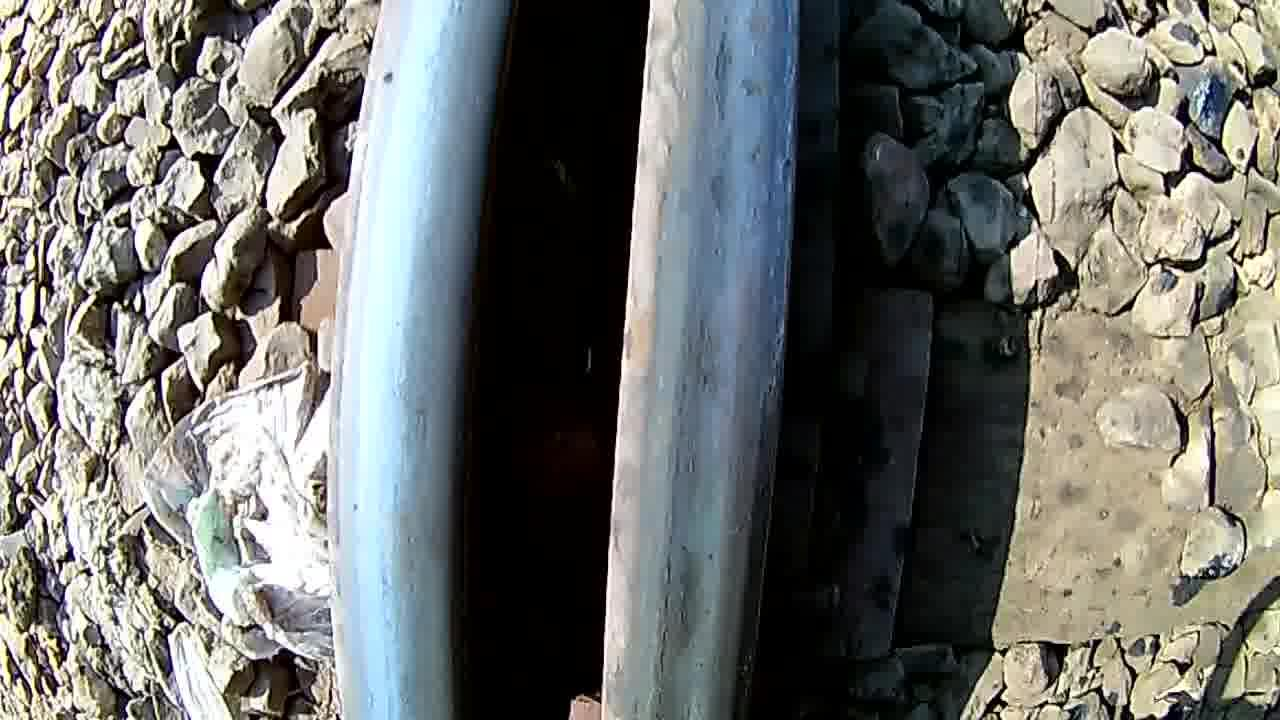crack: (649, 20, 788, 720)
